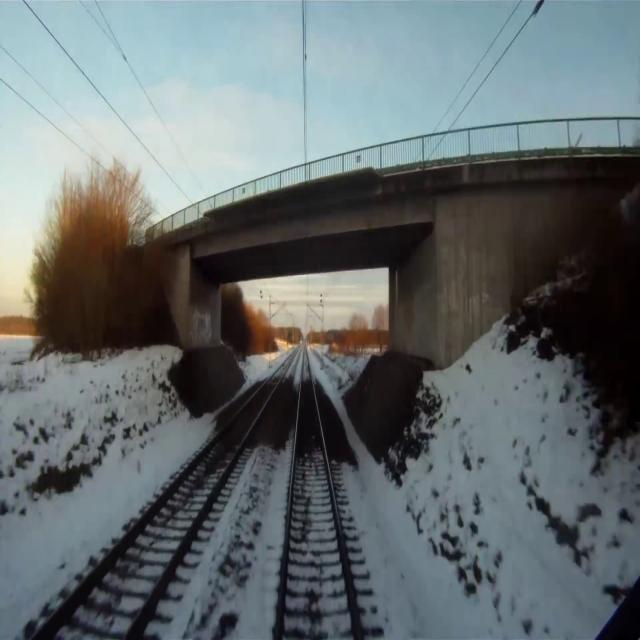rail-track: (36, 359, 290, 639), (281, 354, 358, 639)
